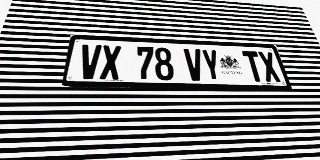7: (136, 46, 155, 80)
8: (154, 47, 174, 80)
T: (242, 51, 266, 82)
V: (78, 44, 102, 79), (183, 48, 205, 81)
X: (257, 51, 282, 82), (100, 45, 121, 80)
Y: (200, 49, 223, 81)
